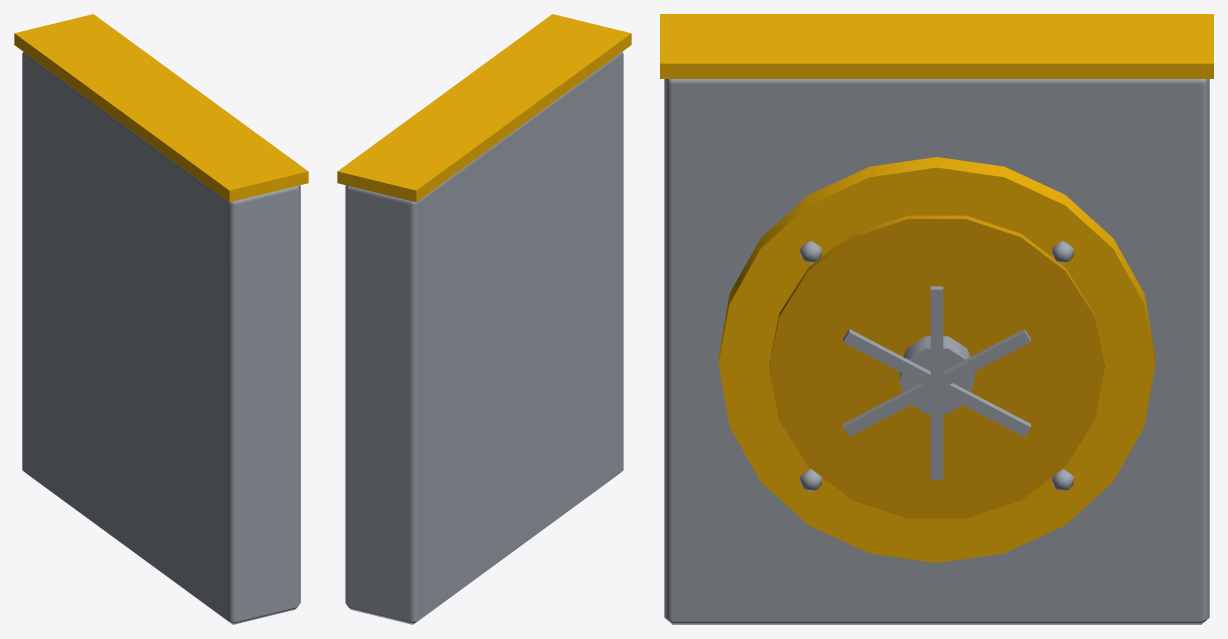
Rendered from station_transport_ausstattung_3_3.glb.
3 views of the same model, side by side, from view 1: azimuth 30°, elevation 25°; view 2: azimuth 150°, elevation 25°; view 3: azimuth 270°, elevation 25° (orthographic). The views are drawn at different scales.
Visible parts, largest first — view 1: station_transport_ausstattung_3_3; view 2: station_transport_ausstattung_3_3; view 3: station_transport_ausstattung_3_3.
Part boxes in pixels (<box>): station_transport_ausstattung_3_3: <box>14,14,308,624</box>; station_transport_ausstattung_3_3: <box>337,14,631,624</box>; station_transport_ausstattung_3_3: <box>660,14,1213,624</box>.
Bounding box in the file's own units: 0.44 × 1.49 × 1.32.
